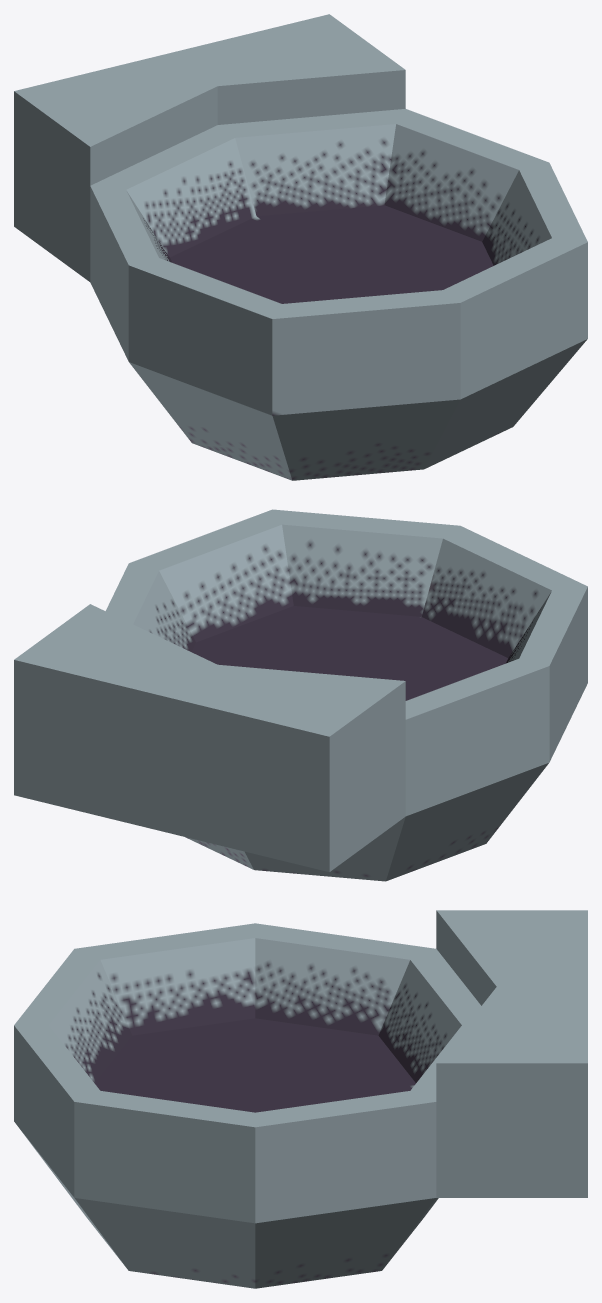
The model's file is Ashtray.fbx.
3 views of the same model, one above another, from view 1: azimuth 30°, elevation 25°; view 2: azimuth 150°, elevation 25°; view 3: azimuth 270°, elevation 25° (orthographic).
Visible parts, largest first — view 1: WallmountedAshtray; view 2: WallmountedAshtray; view 3: WallmountedAshtray.
Boxes of the visible parts, x1=… form: WallmountedAshtray: x1=14, y1=14, x2=587, y2=480; WallmountedAshtray: x1=14, y1=509, x2=587, y2=881; WallmountedAshtray: x1=14, y1=910, x2=587, y2=1288.
Bounding box in the file's own units: 23.15 × 14.99 × 27.52.
